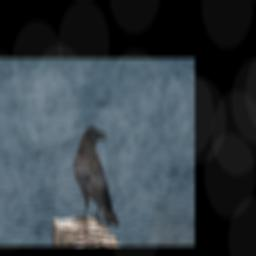Crow: (73, 126, 119, 229)
